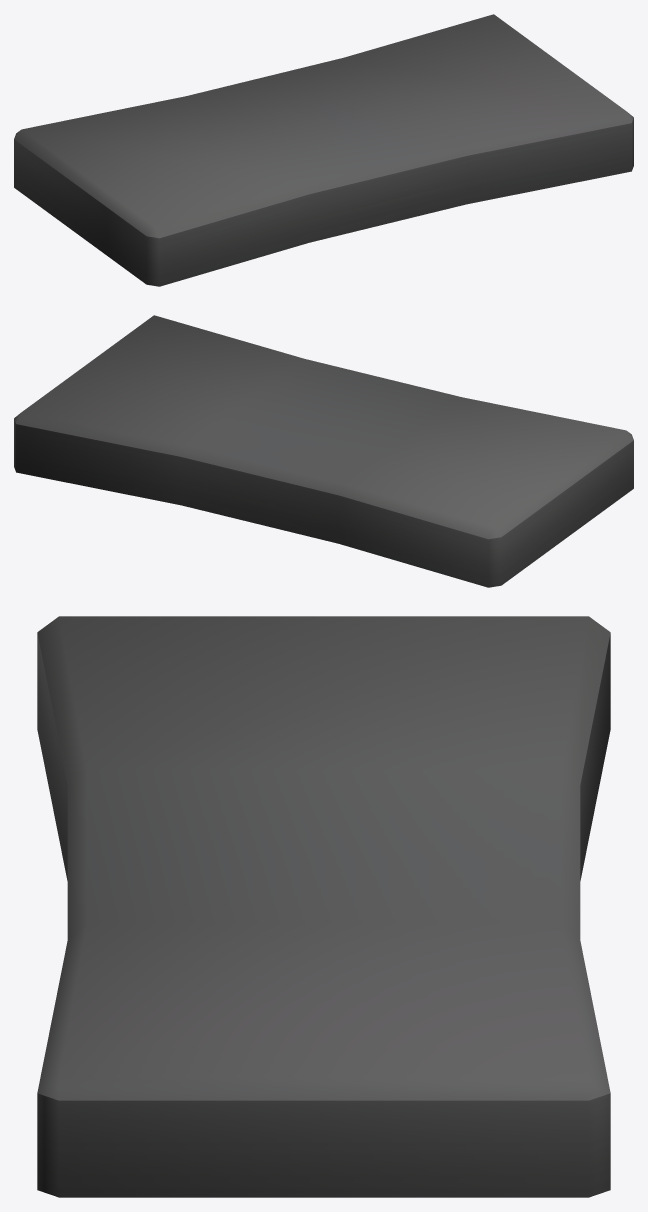
File: Grave_5.glb
3 renders of one model, top to bottom at view 1: azimuth 30°, elevation 25°; view 2: azimuth 150°, elevation 25°; view 3: azimuth 270°, elevation 25°, orthographic. The views are drawn at different scales.
Parts seen in each view (by area): view 1: Grave_5; view 2: Grave_5; view 3: Grave_5.
Part boxes in pixels (box(x1,y1,x2,y2)): Grave_5: box(14, 14, 633, 286); Grave_5: box(14, 315, 633, 587); Grave_5: box(37, 616, 610, 1197).
Bounding box in the file's own units: 1.69 × 0.1866 × 0.8601.
Materials: 1 (1 with a texture image).
